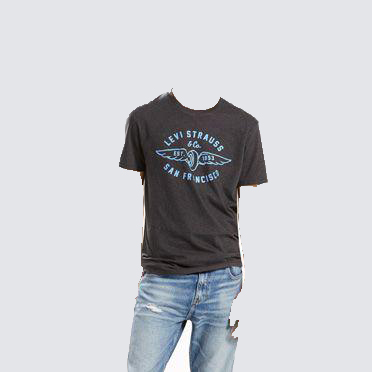teeshirt: (116, 87, 273, 273)
